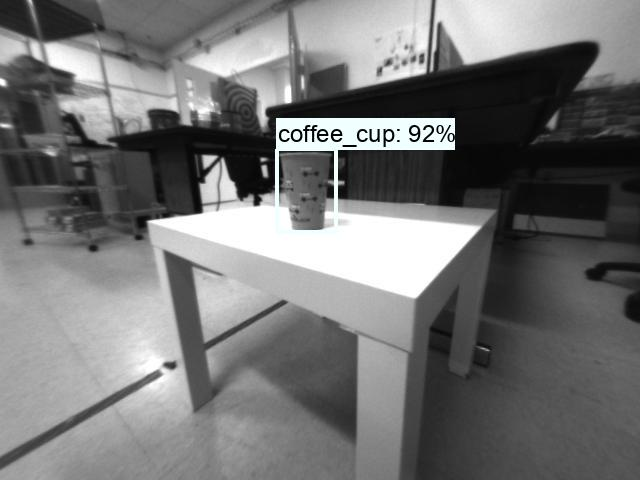coffee_cup: (277, 150, 337, 231)
